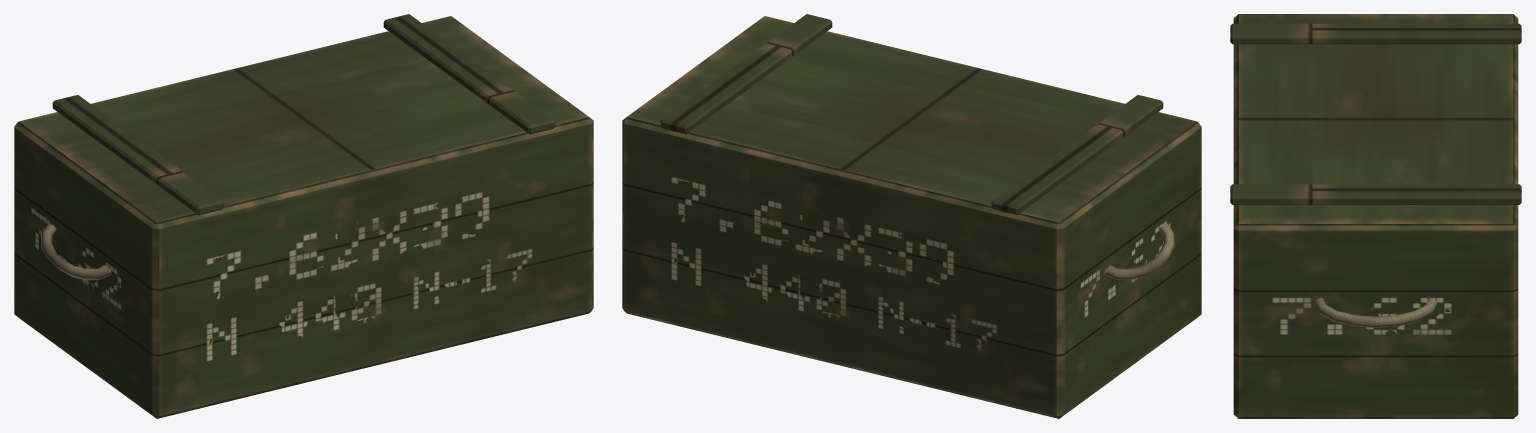
Rendered from S7U_AmmoCrate.fbx.
3 renders of one model, left to right at view 1: azimuth 30°, elevation 25°; view 2: azimuth 150°, elevation 25°; view 3: azimuth 270°, elevation 25°, orthographic.
Parts seen in each view (by area): view 1: S7U_AmmoCrate; view 2: S7U_AmmoCrate; view 3: S7U_AmmoCrate.
Part boxes in pixels (x1,y1,x2,y2): S7U_AmmoCrate: [14, 14, 593, 418]; S7U_AmmoCrate: [622, 14, 1201, 418]; S7U_AmmoCrate: [1230, 14, 1521, 418].
Bounding box in the file's own units: 0.8975 × 0.356 × 0.46.
